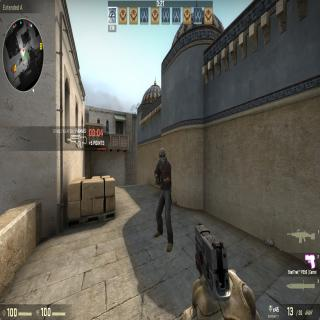T-Body: (154, 148, 175, 252)
T-Head: (158, 146, 166, 164)
